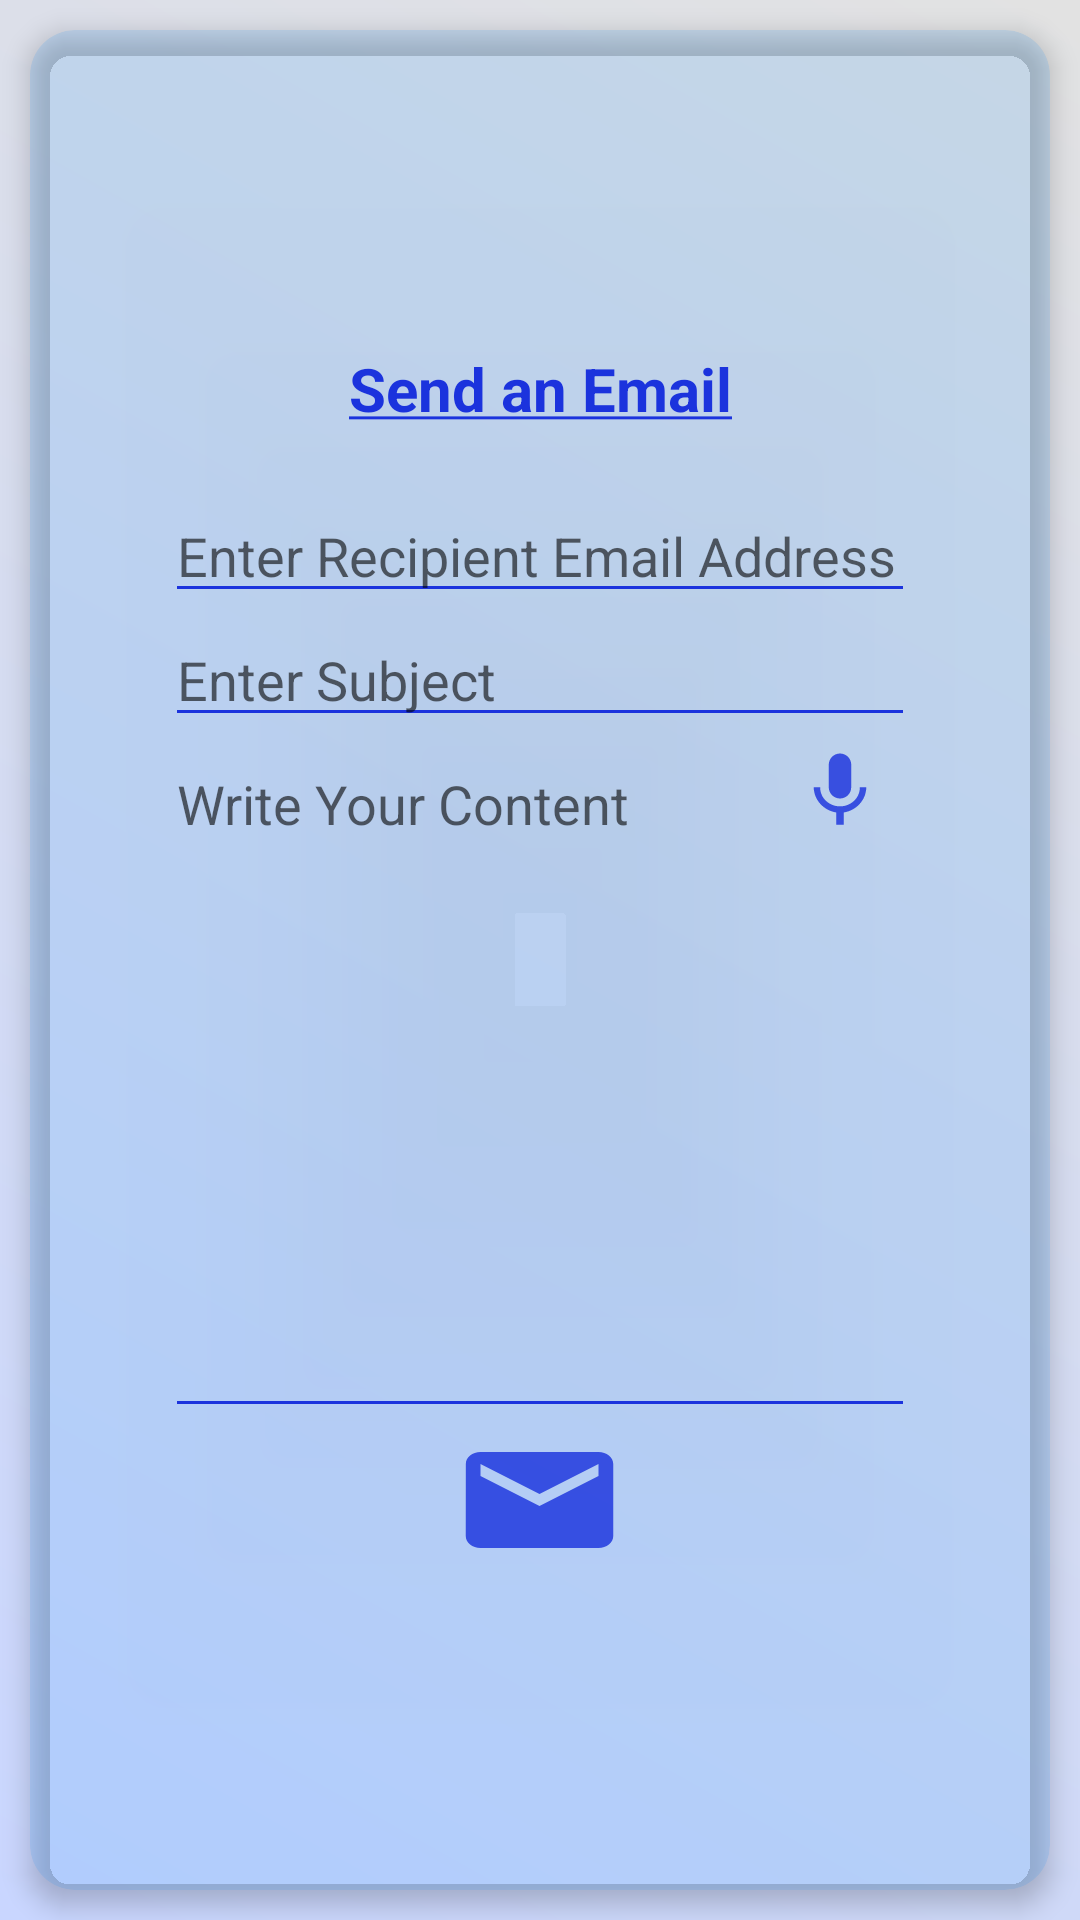

Locate icon controls on the screen. Image size 1080px×1920px, boxes as (x1, y1, x2, y2).
email: (465, 1452, 614, 1548)
mic: (813, 753, 867, 825)
